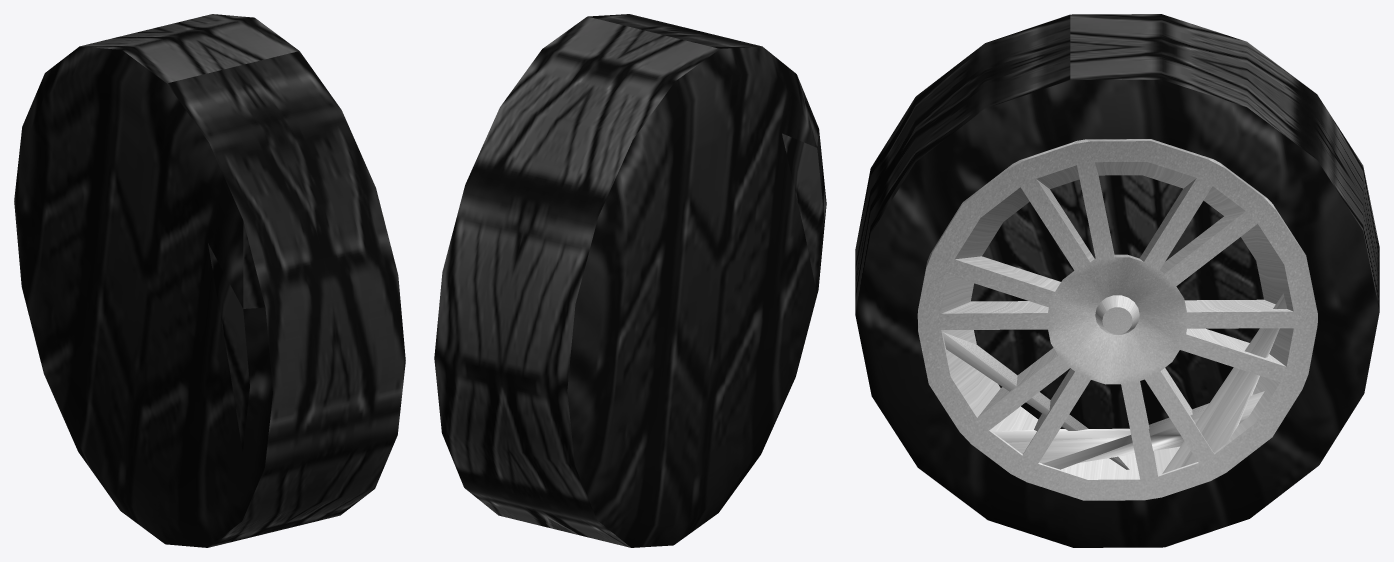
File: llanta_izquierda1.obj
3 views of the same model, side by side, from view 1: azimuth 30°, elevation 25°; view 2: azimuth 150°, elevation 25°; view 3: azimuth 270°, elevation 25° (orthographic).
Parts seen in each view (by area): view 1: BR_Wheel.001_Plastic.002, BR_Wheel_Plastic.002; view 2: BR_Wheel.001_Plastic.002, BR_Wheel_Plastic.002; view 3: BR_Wheel.001_Plastic.002, BR_Wheel_Rims.002, BR_Wheel_Plastic.002, BR_Wheel.001_Rims.002.
Boxes of the visible parts, left/top/right/bottom form: BR_Wheel.001_Plastic.002: left=14, top=14, right=405, bottom=547; BR_Wheel_Plastic.002: left=208, top=221, right=265, bottom=452; BR_Wheel.001_Plastic.002: left=434, top=14, right=826, bottom=547; BR_Wheel_Plastic.002: left=782, top=75, right=823, bottom=292; BR_Wheel.001_Plastic.002: left=855, top=14, right=1379, bottom=547; BR_Wheel_Rims.002: left=917, top=141, right=1317, bottom=500; BR_Wheel_Plastic.002: left=971, top=175, right=1263, bottom=428; BR_Wheel.001_Rims.002: left=918, top=139, right=1317, bottom=344.
Size of the model in its own units: 0.2095 by 0.5885 by 0.597.
2 materials, 2 textured.
